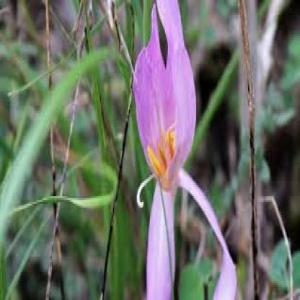Saffron: (135, 0, 191, 235)
